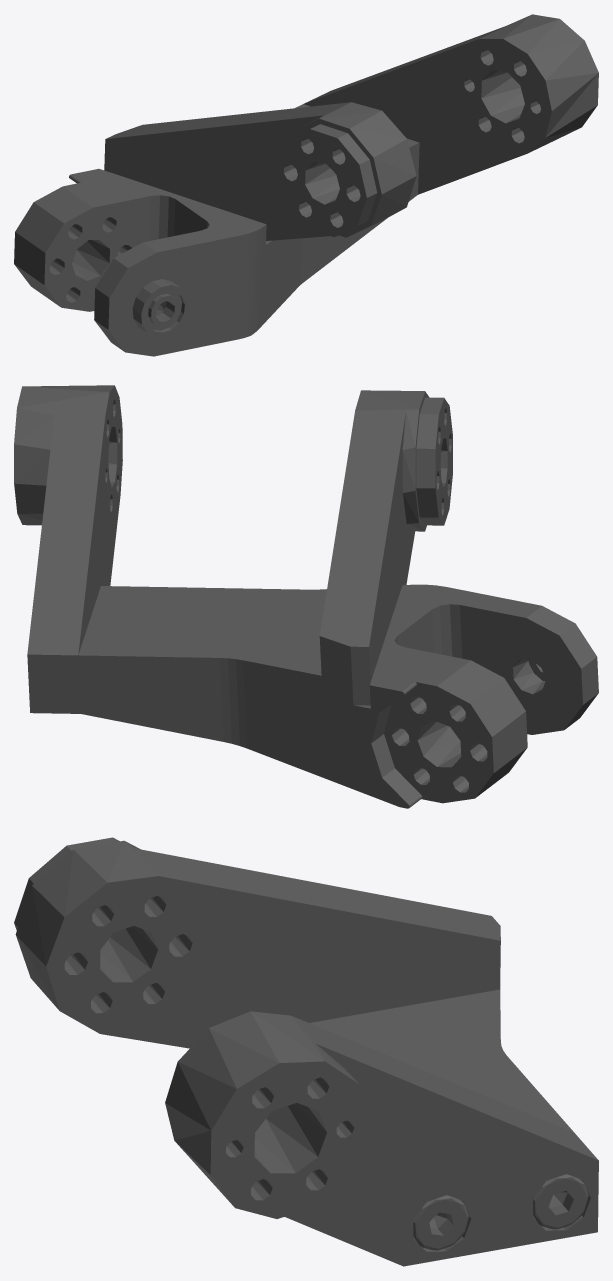
File: thumb1.dae
The picture shows the model from 3 angles, top to bottom: view 1: azimuth 30°, elevation 25°; view 2: azimuth 150°, elevation 25°; view 3: azimuth 270°, elevation 25°; orthographic projection. The views are drawn at different scales.
Visible parts, largest first — view 1: node; view 2: node; view 3: node.
Part boxes in pixels (left/top/right/bottom): node: left=14, top=14, right=598, bottom=356; node: left=14, top=385, right=598, bottom=808; node: left=14, top=837, right=598, bottom=1266.
Size of the model in its own units: 0.0505 by 0.0221 by 0.0362.
1 material, 1 textured.
